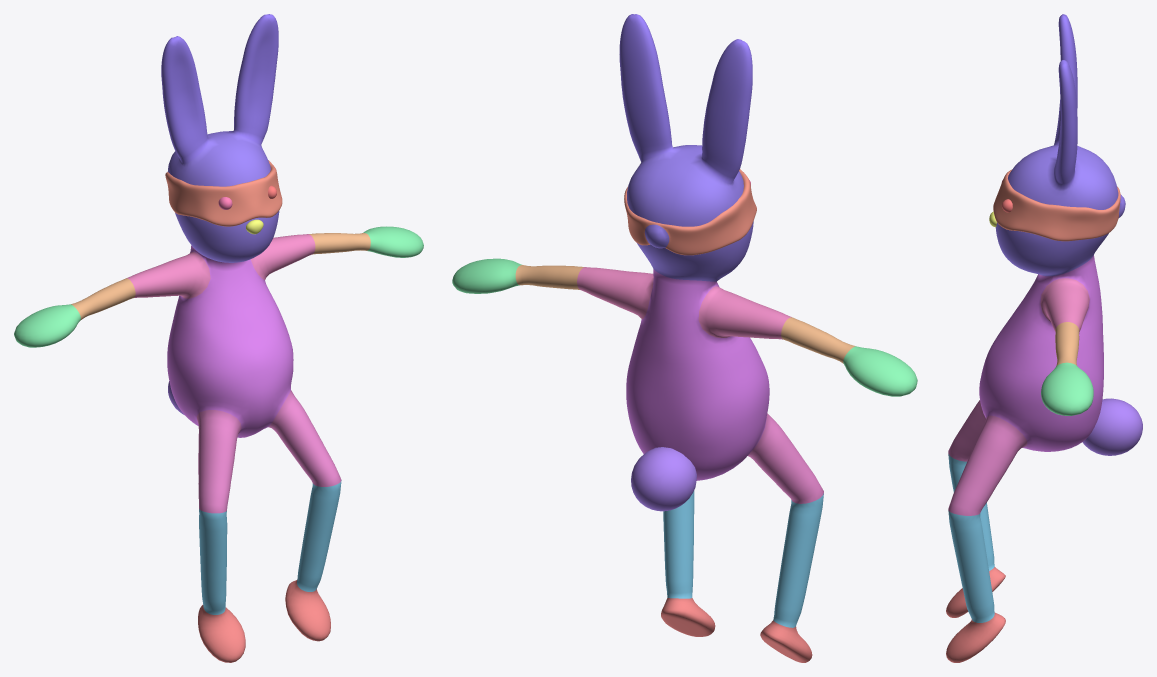
Rendered from ld_peluche.fbx.
3 views of the same model, side by side, from view 1: azimuth 30°, elevation 25°; view 2: azimuth 150°, elevation 25°; view 3: azimuth 270°, elevation 25° (orthographic). The views are drawn at different scales.
Visible parts, largest first — view 1: PM3D_Sphere3D1_012; view 2: PM3D_Sphere3D1_012; view 3: PM3D_Sphere3D1_012.
Boxes of the visible parts, x1,y1,x2,y2 form: PM3D_Sphere3D1_012: (14,14,423,662); PM3D_Sphere3D1_012: (452,14,917,662); PM3D_Sphere3D1_012: (946,14,1142,662).
Bounding box in the file's own units: 0.2877 × 0.3998 × 0.1187.
